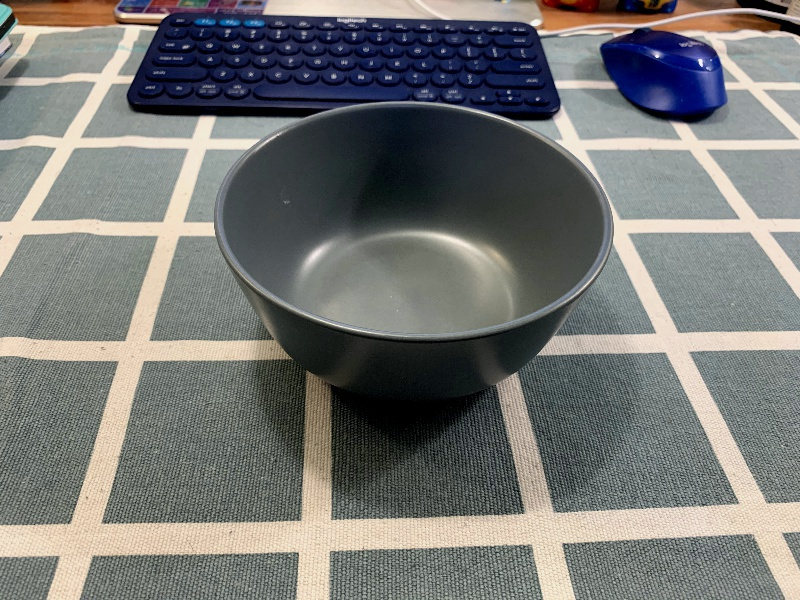bowl_big: (208, 97, 623, 409)
